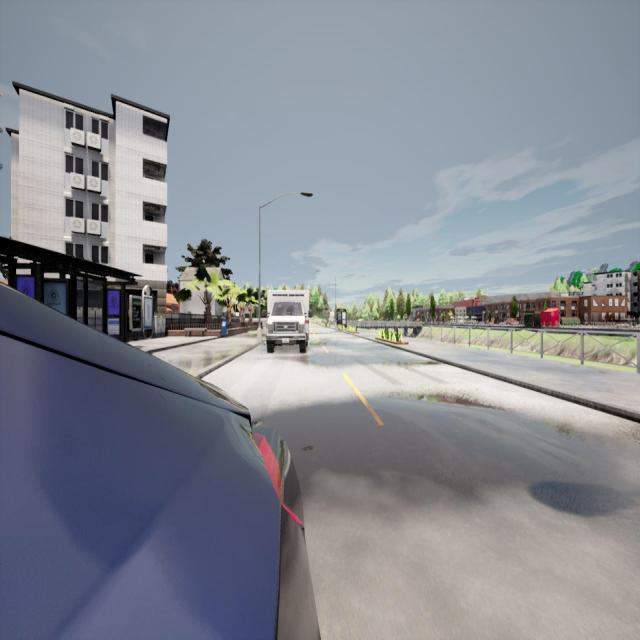Vehicle: (0, 284, 319, 638), (261, 290, 313, 354)
